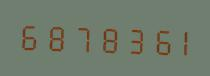eight: (42, 17, 66, 54), (92, 19, 116, 56)
one: (167, 22, 191, 59)
seven: (67, 18, 91, 55)
six: (17, 16, 41, 53), (142, 21, 166, 58)
three: (117, 20, 141, 57)
